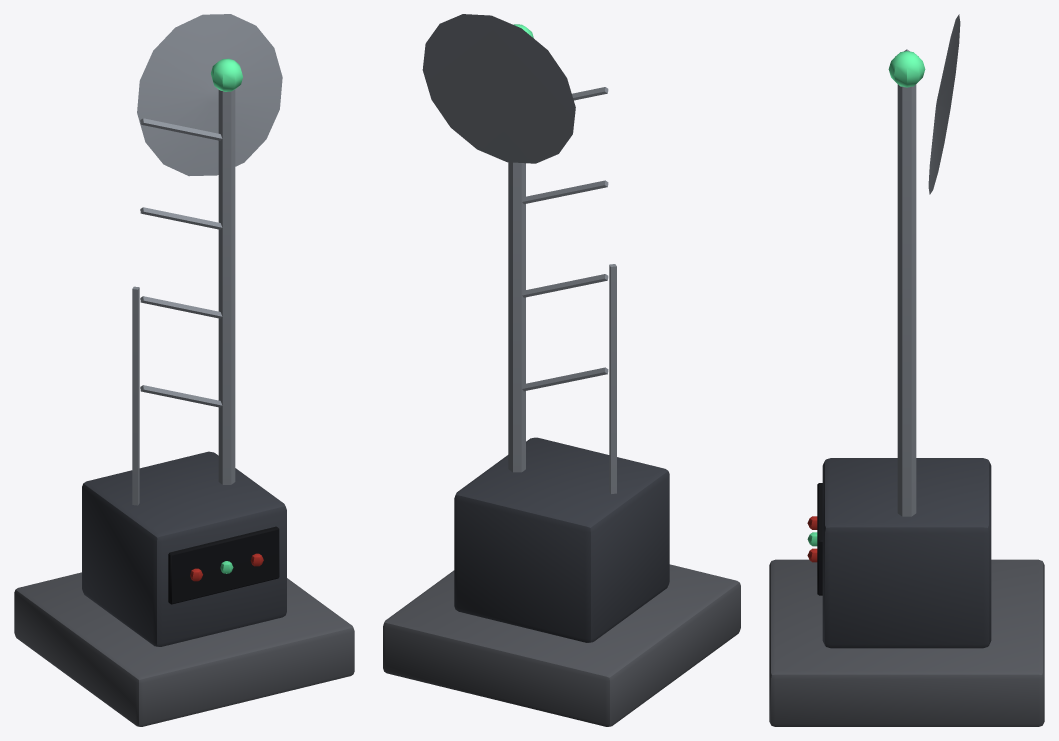
File: beacon.glb
3 renders of one model, left to right at view 1: azimuth 30°, elevation 25°; view 2: azimuth 150°, elevation 25°; view 3: azimuth 270°, elevation 25°, orthographic. The views are drawn at different scales.
Parts seen in each view (by area): view 1: beacon; view 2: beacon; view 3: beacon.
Part boxes in pixels (x1,y1,x2,y2): beacon: [14, 14, 354, 726]; beacon: [383, 14, 740, 726]; beacon: [769, 14, 1044, 726].
Bounding box in the file's own units: 1.85 × 4.84 × 1.8.
